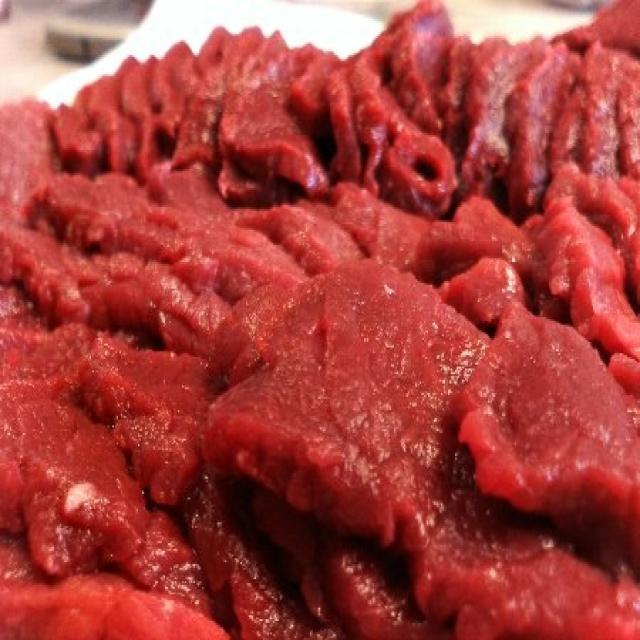刺身生食: (10, 26, 631, 624)
